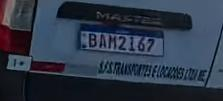Placa_mercosul_carro: (78, 22, 165, 57)
